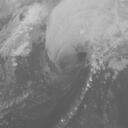cyclone: (39, 41, 86, 92)
